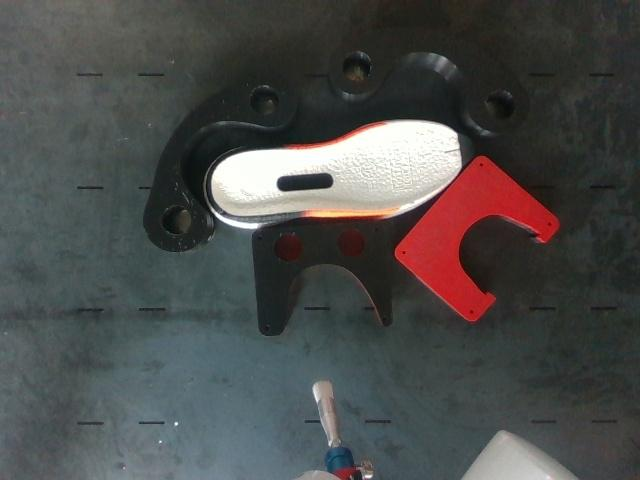shoes: (206, 121, 474, 217)
